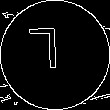L_S: (39, 29, 71, 81)
